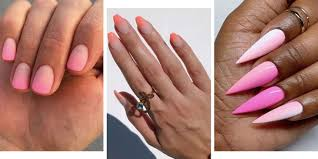nail: (235, 28, 285, 65), (226, 60, 278, 94), (230, 85, 285, 114), (251, 99, 302, 124), (31, 64, 55, 94), (66, 45, 89, 71), (10, 62, 31, 90), (1, 38, 17, 62), (112, 13, 130, 34), (135, 15, 152, 33), (112, 89, 126, 106), (169, 32, 182, 48), (106, 31, 118, 47)
